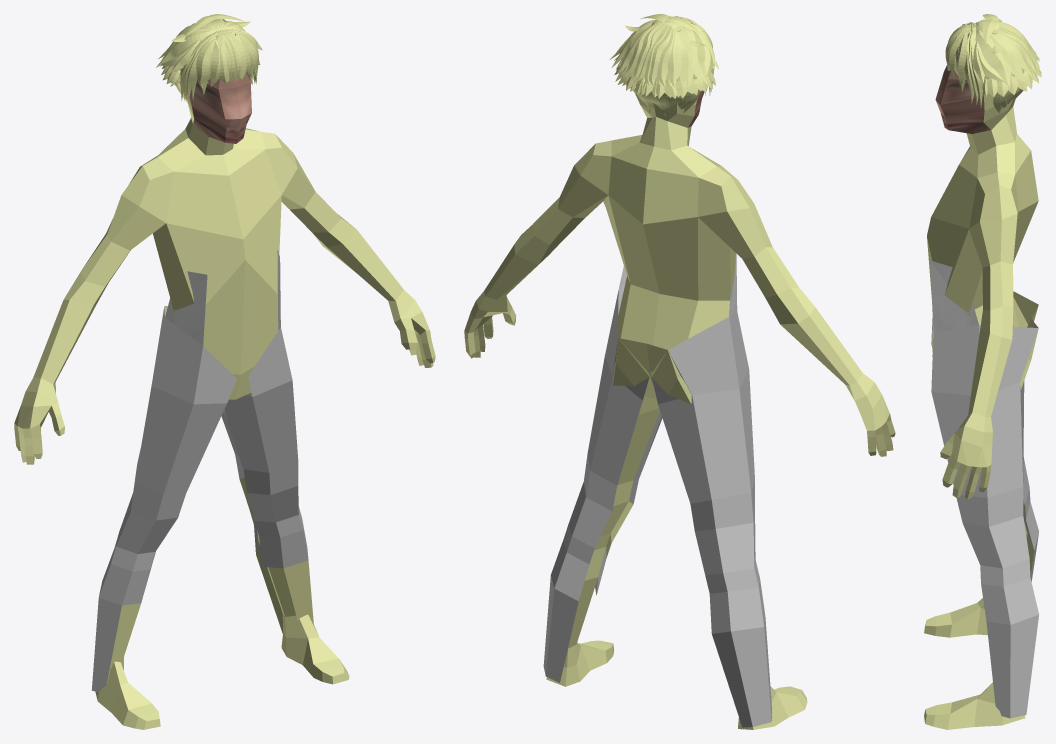
The model's file is NhanVatChinh.fbx.
3 views of the same model, side by side, from view 1: azimuth 30°, elevation 25°; view 2: azimuth 150°, elevation 25°; view 3: azimuth 270°, elevation 25° (orthographic). The views are drawn at different scales.
Parts seen in each view (by area): view 1: Cube.001; view 2: Cube.001; view 3: Cube.001.
Part boxes in pixels (bbox=[...]): Cube.001: bbox=[14, 14, 435, 729]; Cube.001: bbox=[464, 14, 895, 729]; Cube.001: bbox=[924, 14, 1041, 729].
Size of the model in its own units: 4.96 by 7.75 by 1.26.
